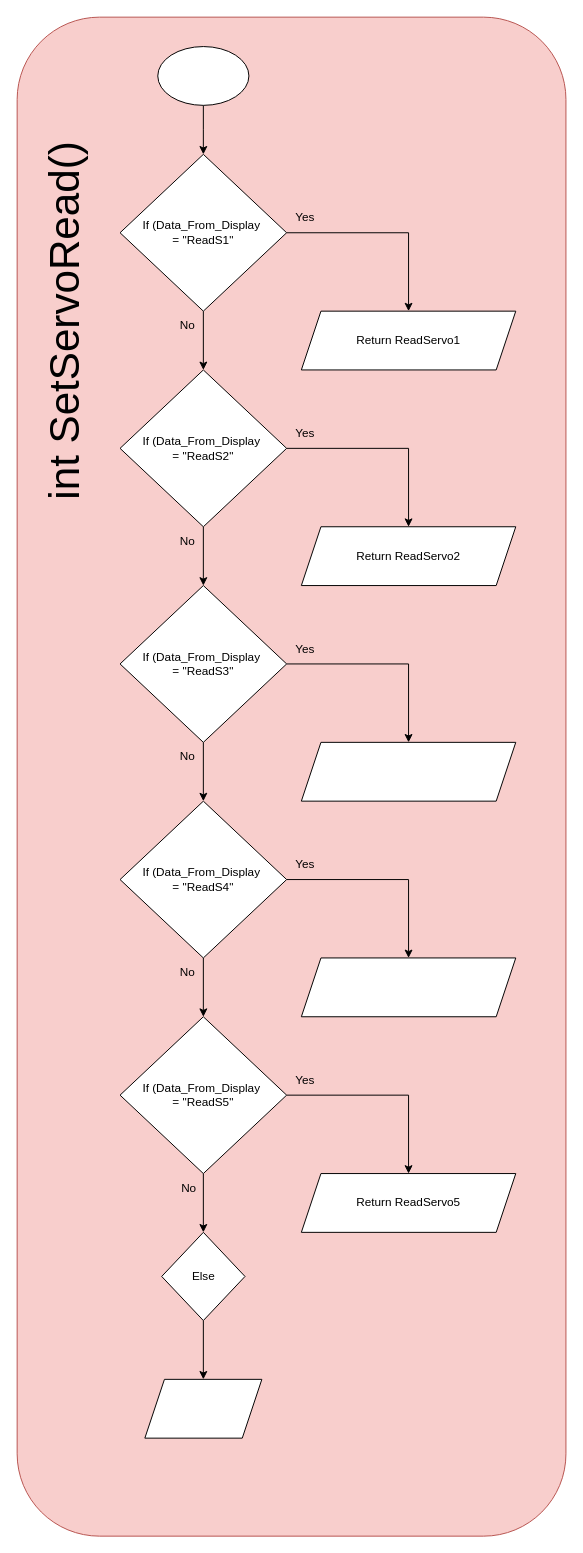
This 583x1553 diagram has some shape labels left out. The shapes that lost their labels are listed below. From the top down, each one's centre as x and y in pixels, then its label:
At point 203,75: "Start".
At point 408,771: "Return ReadServo3".
At point 408,987: "Return ReadServo4".
At point 203,1408: "Return 0".
